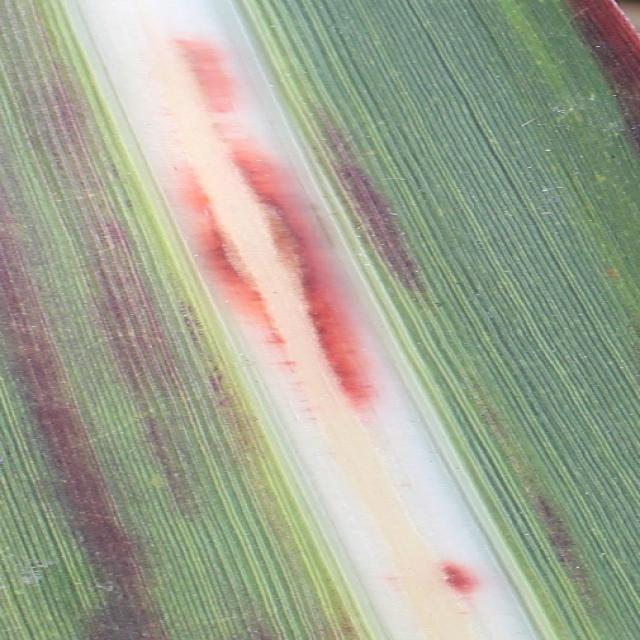Sugarcane: (4, 0, 635, 639)
